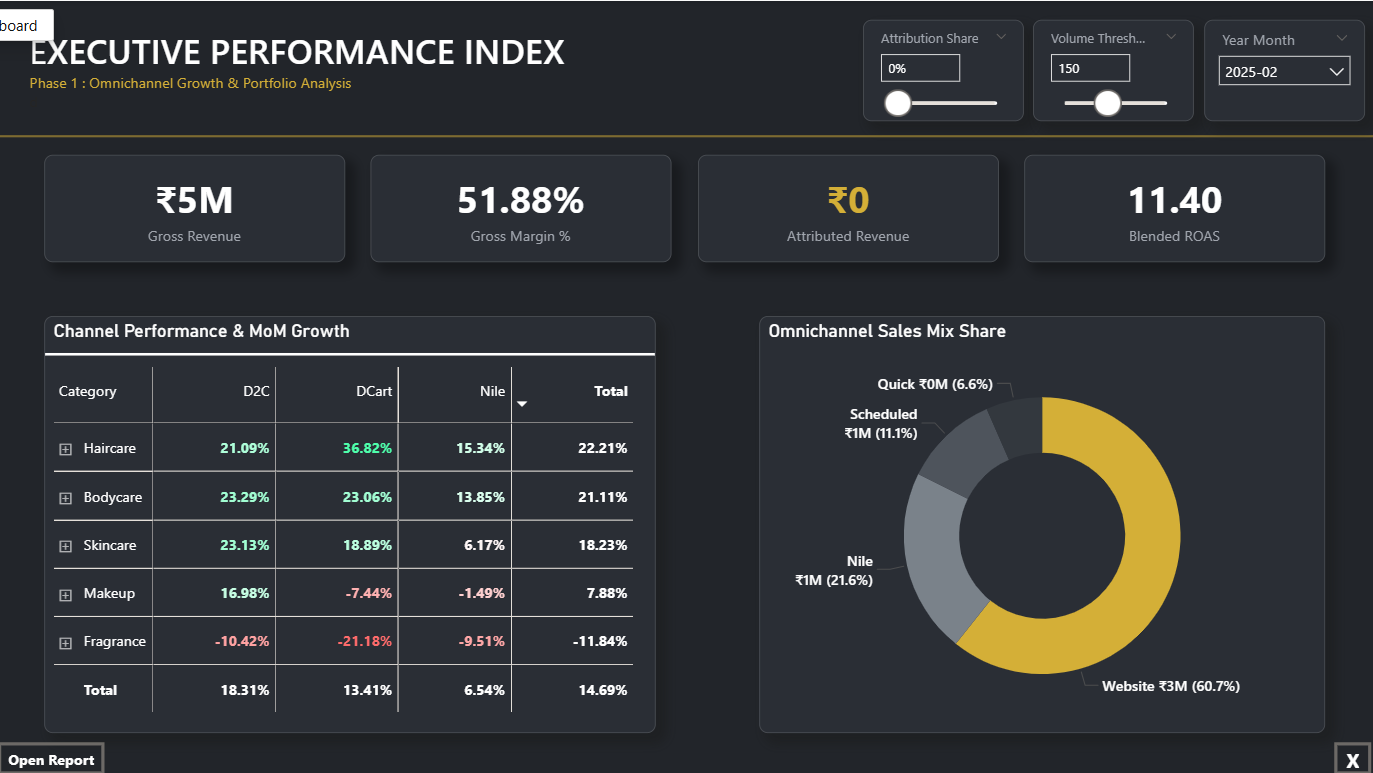

The page's visual inventory and layout, read from the dashboard file:
{"tool":"powerbi","page":{"name":"EXECUTIVE PERFORMANCE INDEX","canvas":[1280,720],"ordinal":0},"visuals":[{"type":"textbox","box":[24,20,550,90],"z":0},{"type":"slicer","fields":{"Values":["Attribution Share.Attribution Share"]},"box":[804.4,16.9,149.8,94.2],"z":1000},{"type":"slicer","fields":{"Values":["Volume Threshold.Volume Threshold"]},"box":[962.6,16.9,149.8,94.2],"z":2000},{"type":"shape","box":[0,119.6,1280.2,12.1],"z":3000},{"type":"card","fields":{"Values":["Calculations_Ledger.Total Gross Sales"]},"box":[43,143,280,100],"z":4000},{"type":"card","fields":{"Values":["Calculations_Ledger.Attributed Gross Sales"]},"box":[651,143,280,100],"z":5000},{"type":"card","fields":{"Values":["Calculations_Ledger.Return on Ad Spend (ROAS)"]},"box":[955,143,280,100],"z":6000},{"type":"card","fields":{"Values":["Calculations_Ledger.Gross Margin %"]},"box":[347,143,280,100],"z":7000},{"type":"pivotTable","title":"Channel Performance & MoM Growth","fields":{"Rows":["Dim_Category_Bridge.Category","Dim_Product.SKU_Code"],"Columns":["Fact_All_Sales.Channel"],"Values":["Calculations_Ledger.Sales MoM Growth %"]},"box":[43,293,568.6,388.4],"z":8000},{"type":"slicer","fields":{"Values":["Dim_Date.Year Month"]},"box":[1122,16.9,149.8,94.2],"z":9000},{"type":"donutChart","title":"Omnichannel Sales Mix Share","fields":{"Category":["Fact_All_Sales.Sub_Channel"],"Y":["Calculations_Ledger.Total Gross Sales"]},"box":[708.1,293,526.7,388.4],"z":10000},{"type":"actionButton","box":[1243.4,689.9,34.5,30.1],"z":13000},{"type":"actionButton","box":[0,689.9,99.1,30.1],"z":14000}]}

Visuals, with their boxes on the page's 1280x720 design canvas (x1, y1, x2, y2). These are canvas units, not pixel positions in the 1373x773 screenshot, which may show the page scaled, cropped or inside an application window:
textbox: box=[24, 20, 574, 110]
slicer - Attribution Share.Attribution Share: box=[804, 17, 954, 111]
slicer - Volume Threshold.Volume Threshold: box=[963, 17, 1112, 111]
shape: box=[0, 120, 1280, 132]
card - Calculations_Ledger.Total Gross Sales: box=[43, 143, 323, 243]
card - Calculations_Ledger.Attributed Gross Sales: box=[651, 143, 931, 243]
card - Calculations_Ledger.Return on Ad Spend (ROAS): box=[955, 143, 1235, 243]
card - Calculations_Ledger.Gross Margin %: box=[347, 143, 627, 243]
"Channel Performance & MoM Growth" pivotTable: box=[43, 293, 612, 681]
slicer - Dim_Date.Year Month: box=[1122, 17, 1272, 111]
"Omnichannel Sales Mix Share" donutChart: box=[708, 293, 1235, 681]
actionButton: box=[1243, 690, 1278, 720]
actionButton: box=[0, 690, 99, 720]
